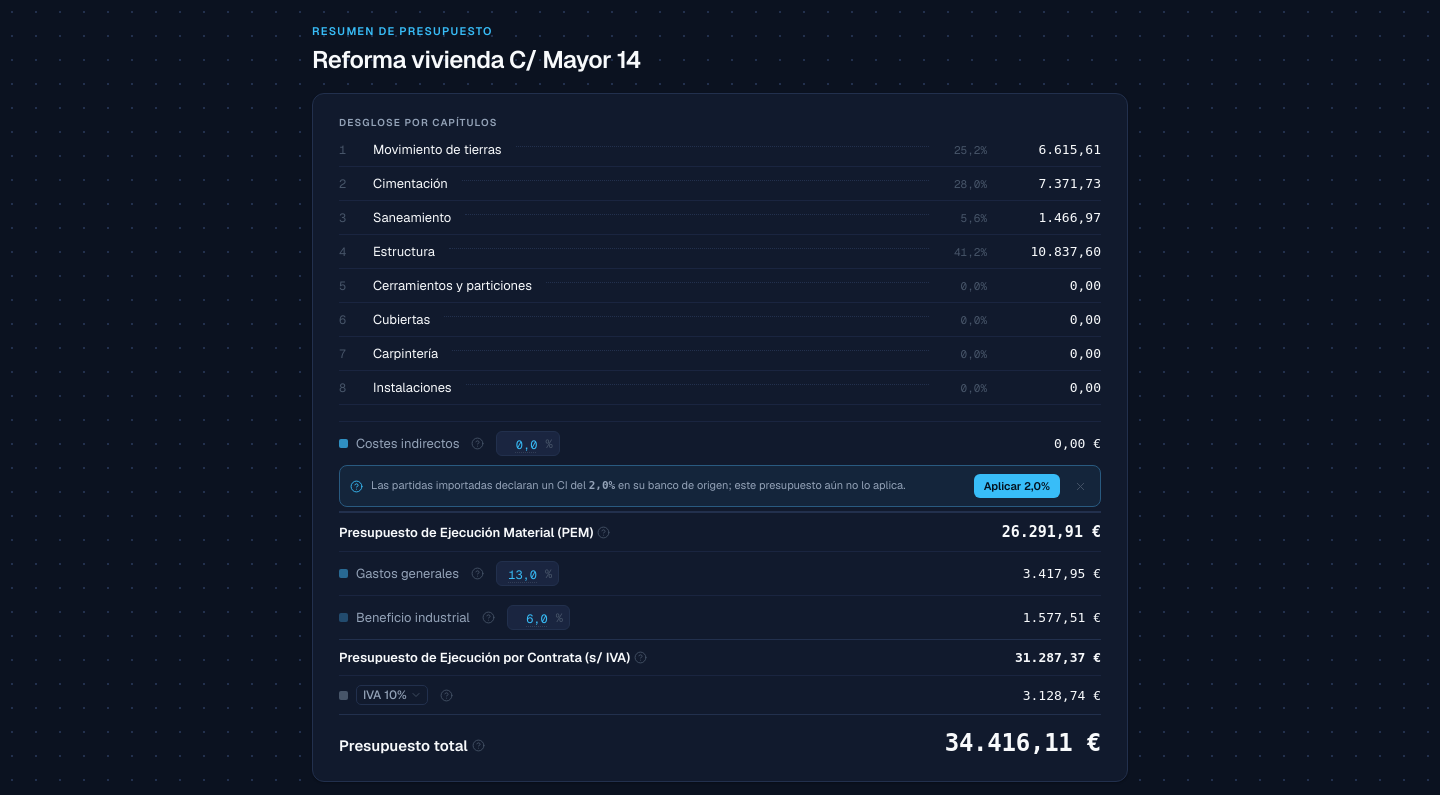
Scenario: ResumenView (F7.1) — hoja editable › la propuesta de CI se puede descartar sin tocar el presupuesto
What coordinates should you click on to do the following:
click the button named "Descartar la propuesta de costes indirectos"
I would click on:
 (1079, 486)
Its box is [1068,475,1090,497].
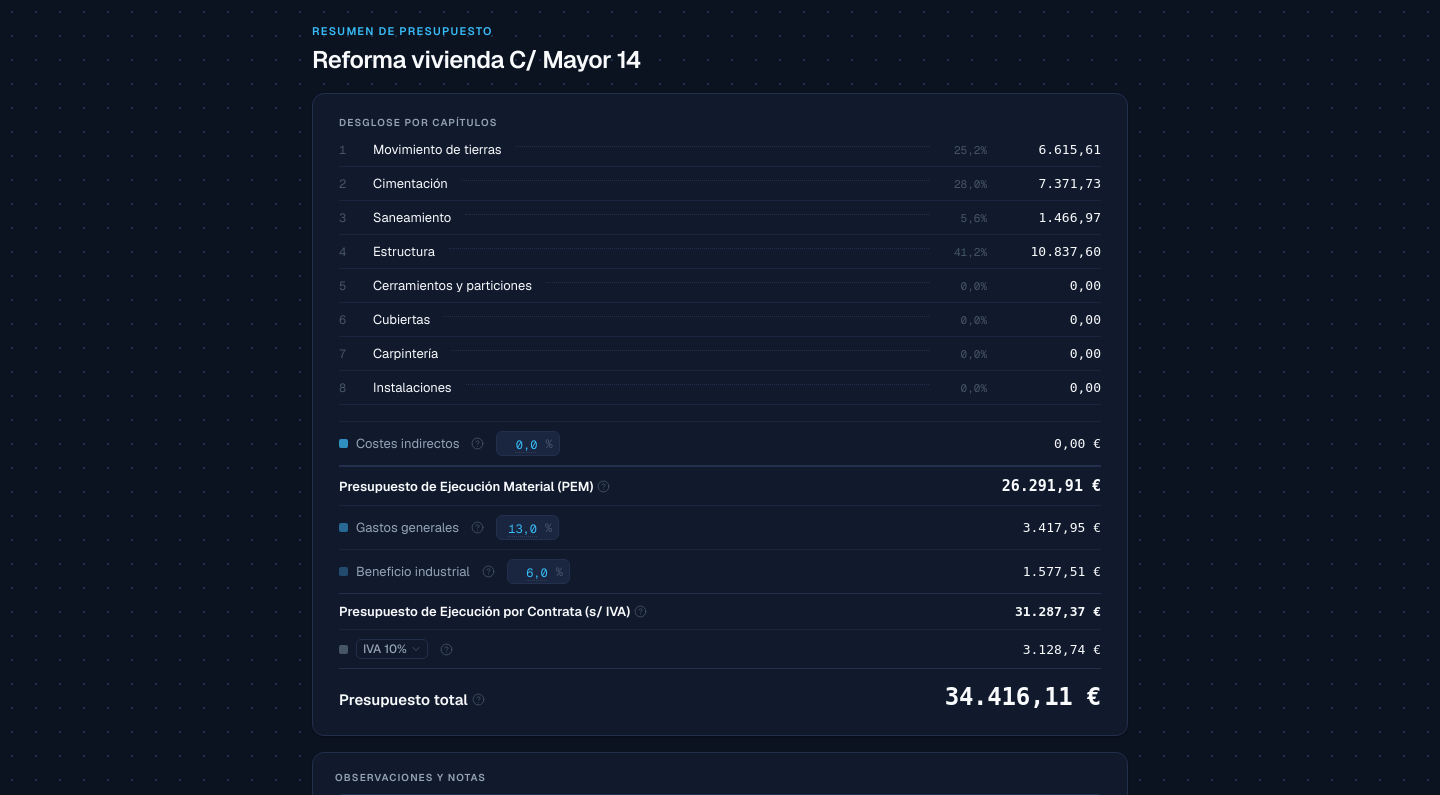
Expected: the text "declaran un CI del" is gone
